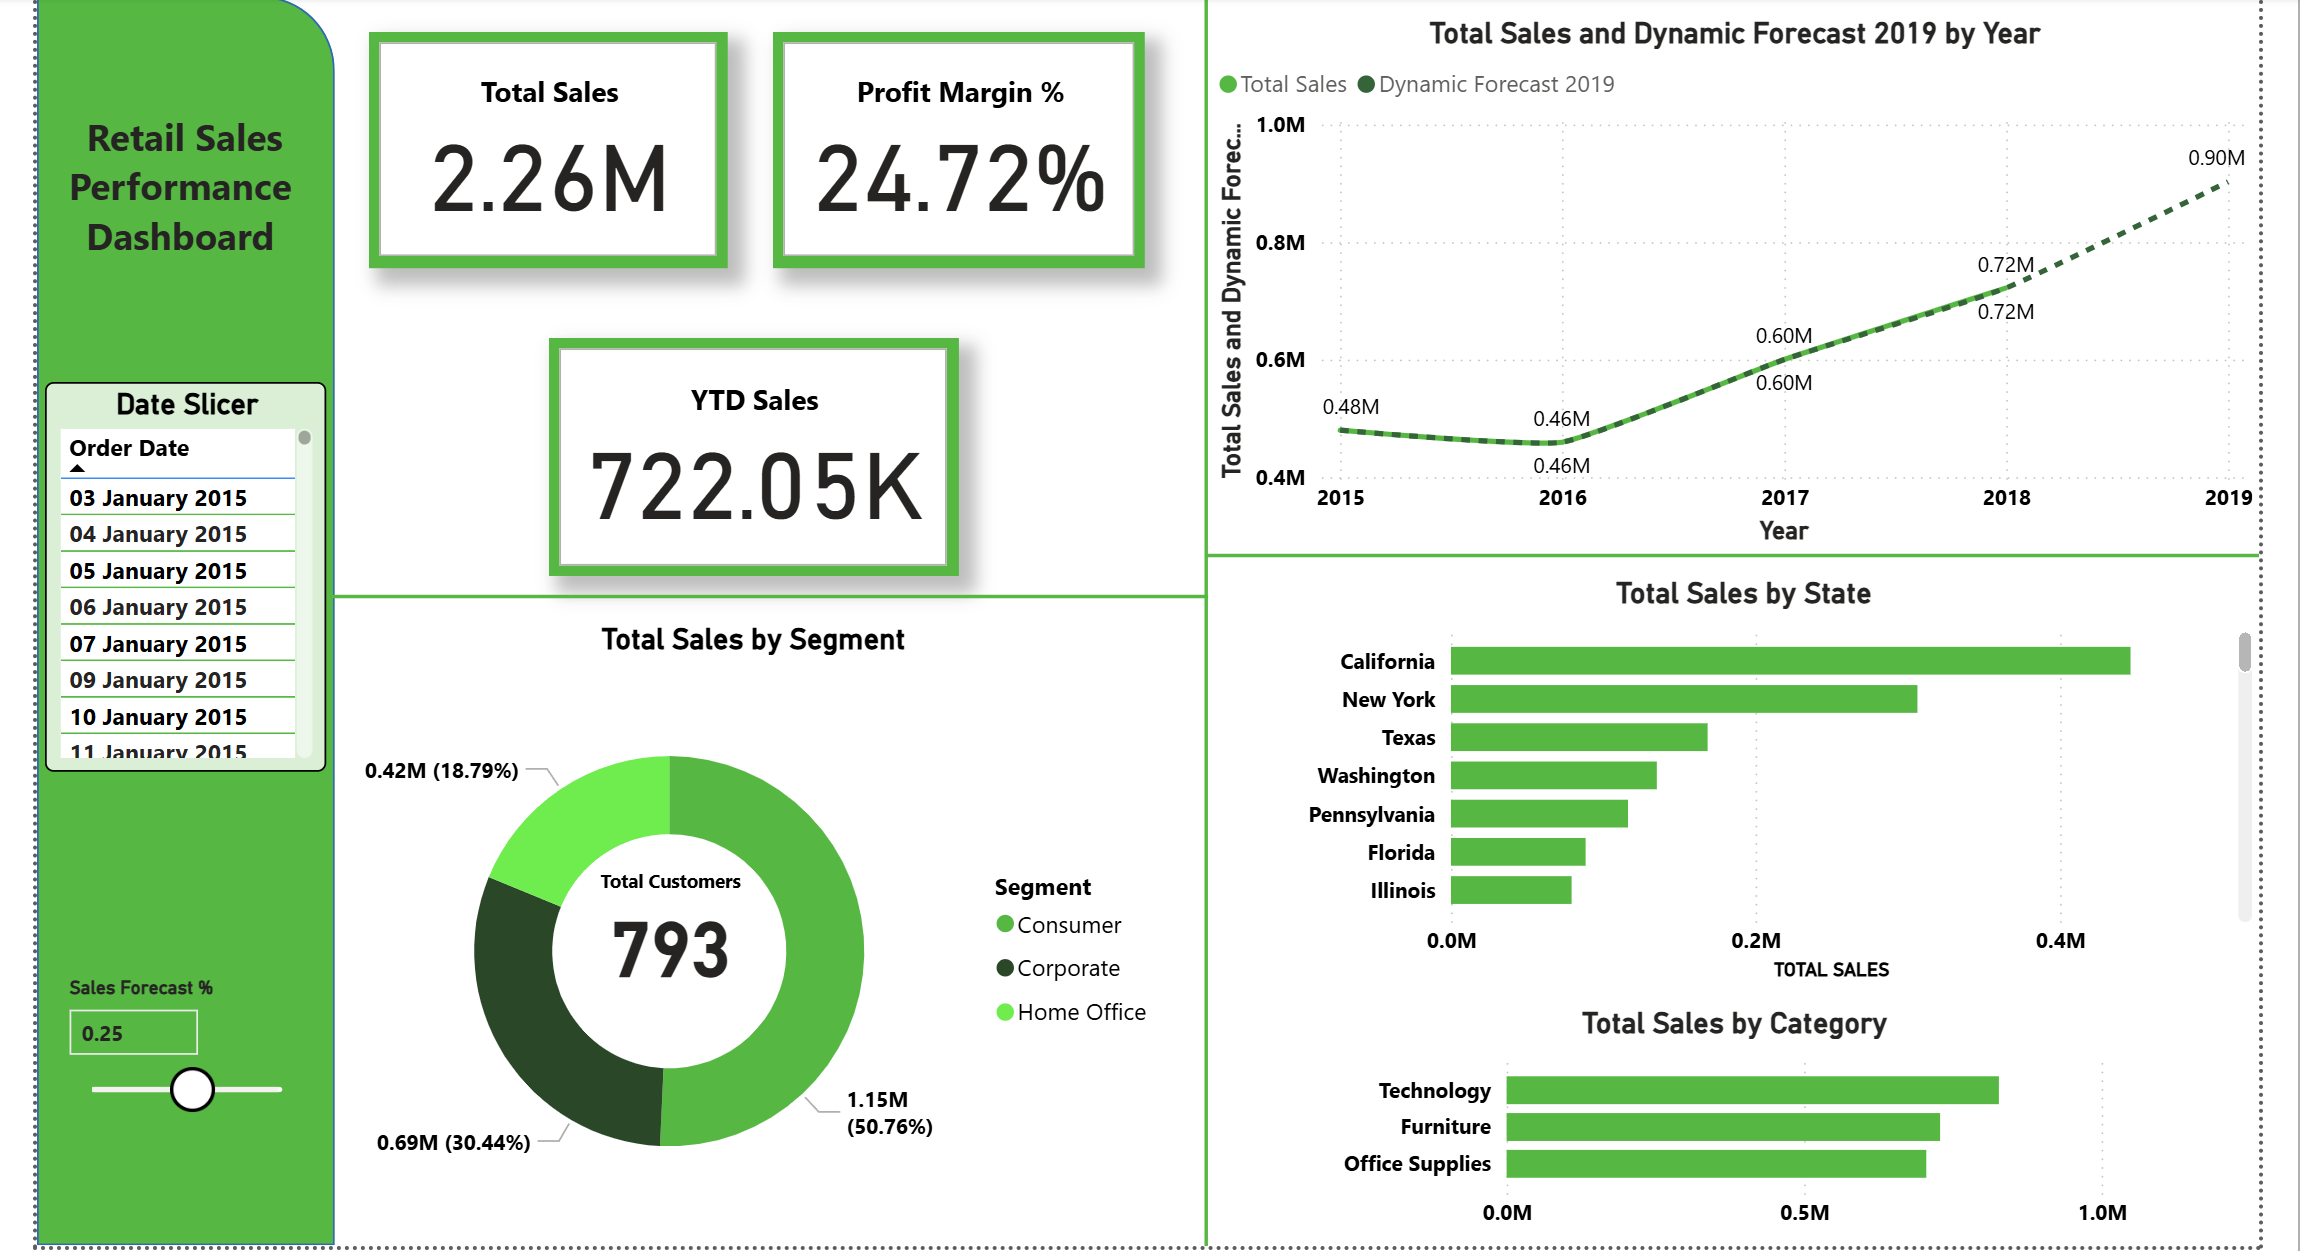

The page's visual inventory and layout, read from the dashboard file:
{"tool":"powerbi","page":{"name":"Page 1","canvas":[1280,720],"ordinal":0},"visuals":[{"type":"shape","box":[0,0,171.5,719.6],"z":0},{"type":"cardVisual","fields":{"Data":["Key Measure.Total Sales"]},"box":[191,20.5,206.4,135.9],"z":1000},{"type":"cardVisual","fields":{"Data":["Key Measure.YTD Sales"]},"box":[294.9,197.4,235.9,137.2],"z":2000},{"type":"tableEx","title":"Date Slicer","fields":{"Values":["cleaned_sales_data.Order Date"]},"box":[5.1,221.8,161.9,224.4],"z":3000},{"type":"cardVisual","title":"sdfs","fields":{"Data":["Key Measure.Profit Margin %"]},"box":[424.4,20.5,214.1,135.9],"z":4000},{"type":"clusteredBarChart","fields":{"Category":["cleaned_sales_data.State"],"Y":["Key Measure.Total Sales"]},"box":[685.1,334.3,595.5,237.3],"z":5000},{"type":"clusteredBarChart","fields":{"Category":["cleaned_sales_data.Category"],"Y":["Key Measure.Total Sales"]},"box":[746.3,582.1,462.7,137.3],"z":6000},{"type":"lineChart","fields":{"Category":["cleaned_sales_data.Order Date.Variation.Date Hierarchy.Year","cleaned_sales_data.Order Date.Variation.Date Hierarchy.Quarter","cleaned_sales_data.Order Date.Variation.Date Hierarchy.Month","cleaned_sales_data.Order Date.Variation.Date Hierarchy.Day"],"Y":["Key Measure.Total Sales","Key Measure.Forecasted Sales"]},"box":[674.6,11.9,606,309],"z":7000},{"type":"shape","box":[166.7,320.5,507.7,51.3],"z":8000},{"type":"shape","box":[638.5,1.3,70.5,719.2],"z":9000},{"type":"shape","box":[673.1,273.1,607.5,98.5],"z":10000},{"type":"textbox","box":[3.8,61.2,158.1,110.9],"z":11000},{"type":"donutChart","fields":{"Category":["cleaned_sales_data.Segment"],"Y":["Key Measure.Total Sales"]},"box":[171.8,360.3,482.1,360.3],"z":12000},{"type":"cardVisual","fields":{"Data":["Key Measure.Total Customers"]},"box":[306.4,489.7,117.9,96.2],"z":13000},{"type":"slicer","fields":{"Values":["Sales Forecast %.Sales Forecast %"]},"box":[5.5,560.3,156.6,86.5],"z":14000}]}

Visuals, with their boxes in screenshot pixels (x1, y1, x2, y2):
shape: [24,0,329,1250]
cardVisual - Key Measure.Total Sales: [363,30,730,272]
cardVisual - Key Measure.YTD Sales: [548,345,968,589]
"Date Slicer" tableEx: [33,388,321,787]
"sdfs" cardVisual: [778,30,1159,272]
clusteredBarChart - cleaned_sales_data.State x Key Measure.Total Sales: [1242,588,2299,1010]
clusteredBarChart - cleaned_sales_data.Category x Key Measure.Total Sales: [1351,1029,2173,1250]
lineChart - cleaned_sales_data.Order Date.Variation.Date Hierarchy.Year x cleaned_sales_data.Order Date.Variation.Date Hierarchy.Quarter: [1223,15,2299,564]
shape: [320,564,1223,655]
shape: [1159,0,1284,1250]
shape: [1220,479,2299,655]
textbox: [31,103,312,300]
donutChart - cleaned_sales_data.Segment x Key Measure.Total Sales: [329,634,1186,1250]
cardVisual - Key Measure.Total Customers: [569,865,778,1036]
slicer - Sales Forecast %.Sales Forecast %: [34,990,312,1144]
